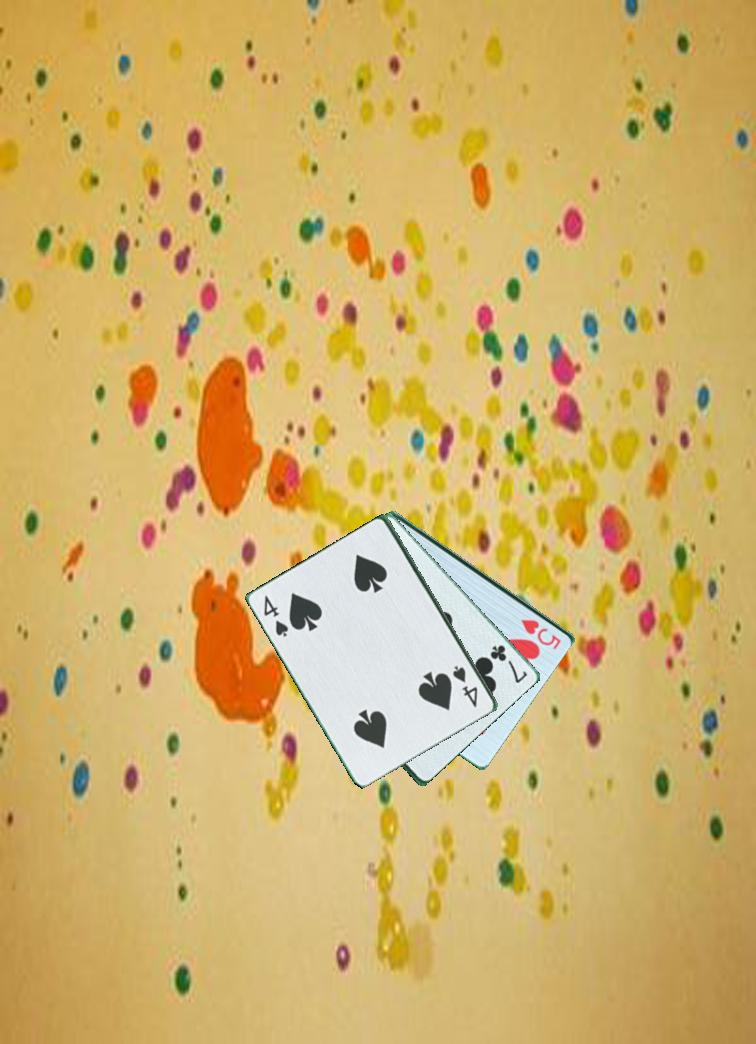4s: (259, 592, 297, 640), (449, 662, 481, 710)
5h: (518, 615, 565, 653)
7c: (482, 641, 531, 686)
